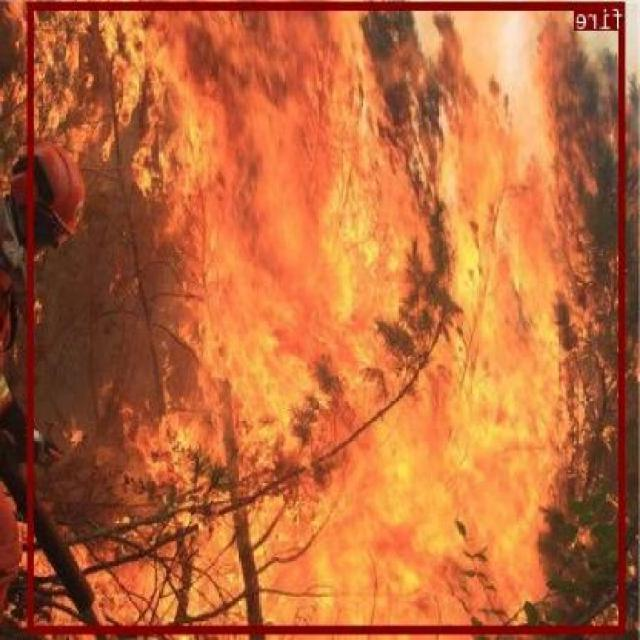Fire: (29, 1, 626, 634)
